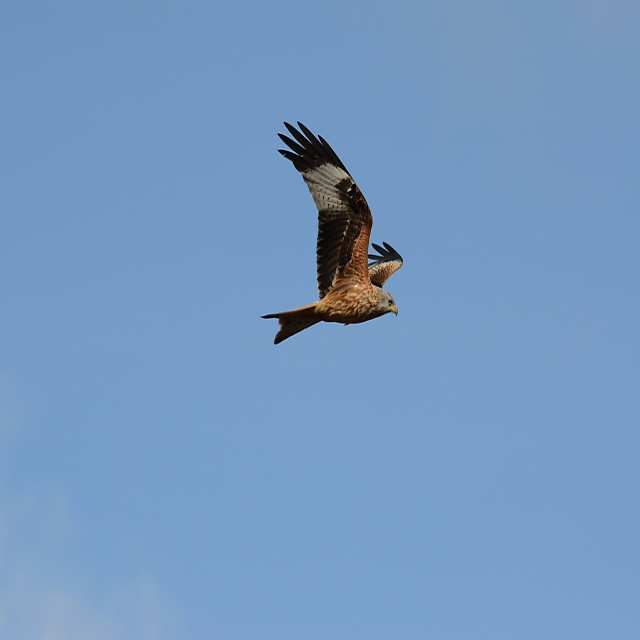Eagle: (259, 119, 409, 353)
